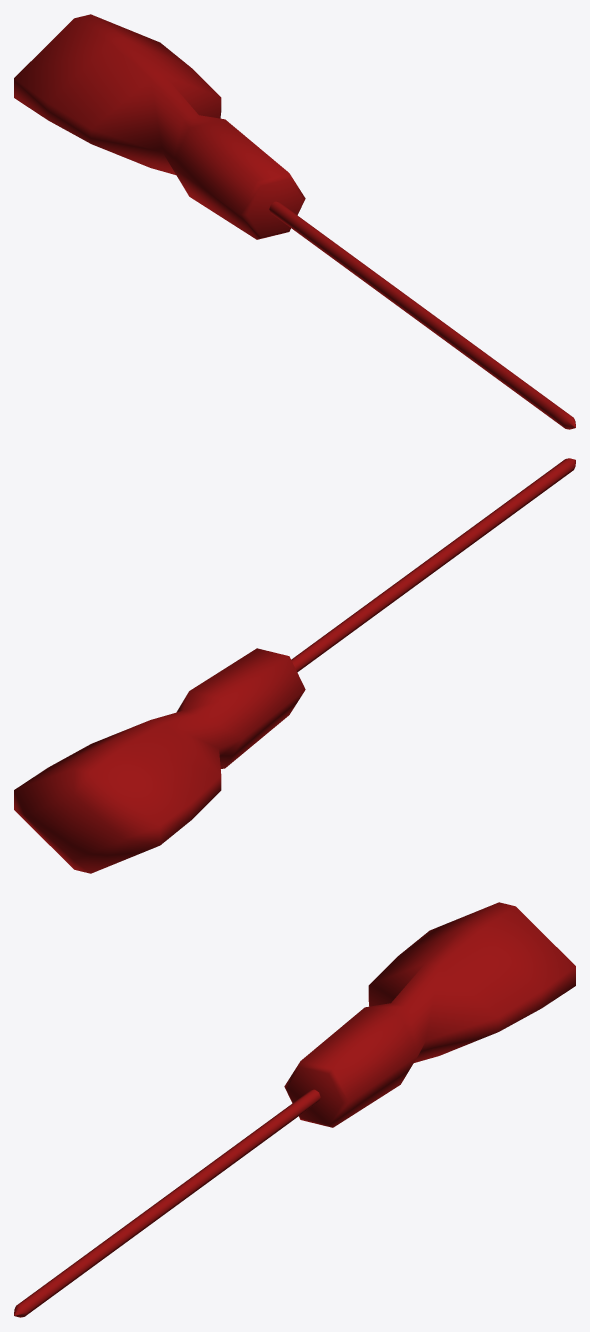
3 views of the same model, one above another, from view 1: azimuth 30°, elevation 25°; view 2: azimuth 150°, elevation 25°; view 3: azimuth 330°, elevation 25° (orthographic).
Visible parts, largest first — view 1: Cylinder002, Cylinder004; view 2: Cylinder002, Cylinder004; view 3: Cylinder002, Cylinder004.
Part boxes in pixels (x1,y1,x2,y2): Cylinder002: (14, 14, 305, 239); Cylinder004: (269, 201, 575, 429); Cylinder002: (14, 648, 305, 873); Cylinder004: (291, 458, 575, 672); Cylinder002: (284, 902, 575, 1127); Cylinder004: (14, 1089, 320, 1317).
Size of the model in its own units: 41.06 by 27.67 by 245.
